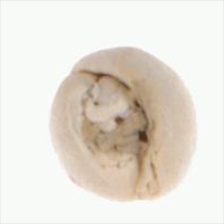L3: (81, 70, 149, 174)
L4: (51, 47, 197, 202)
